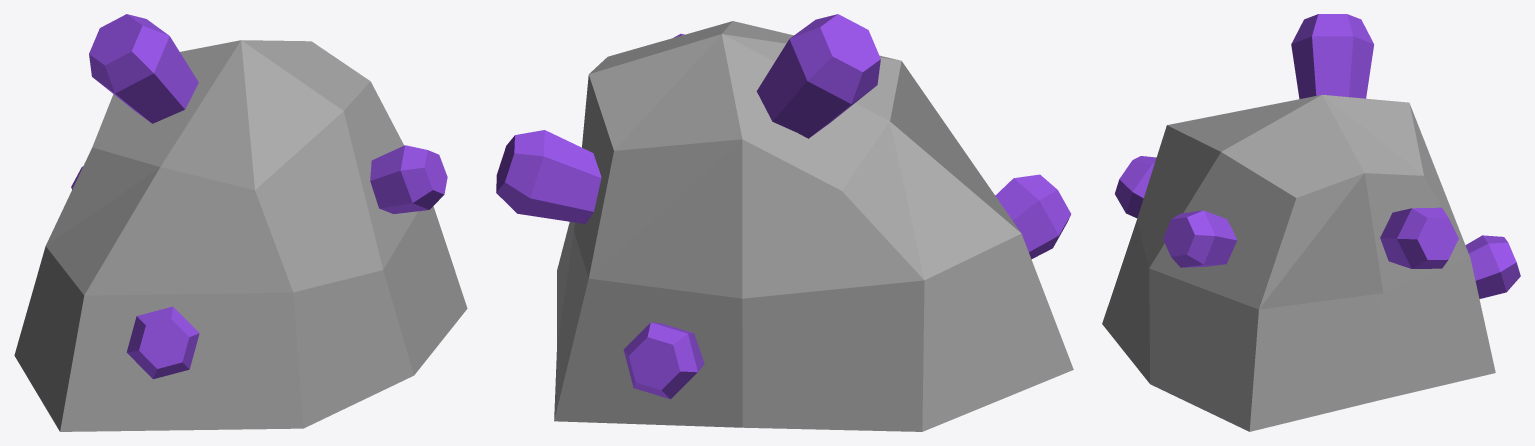
The model's file is ore2.fbx.
The picture shows the model from 3 angles, left to right: view 1: azimuth 30°, elevation 25°; view 2: azimuth 150°, elevation 25°; view 3: azimuth 270°, elevation 25°; orthographic projection. The views are drawn at different scales.
Parts seen in each view (by area): view 1: Cube.004, Cylinder.003; view 2: Cube.004, Cylinder.003; view 3: Cube.004, Cylinder.003.
Part boxes in pixels (x1,y1,x2,y2): Cube.004: (14, 40, 467, 431); Cylinder.003: (71, 14, 447, 379); Cube.004: (554, 21, 1073, 431); Cylinder.003: (496, 14, 1071, 399); Cube.004: (1102, 94, 1495, 431); Cylinder.003: (1115, 14, 1520, 298).
Size of the model in its own units: 497 by 357 by 464.
